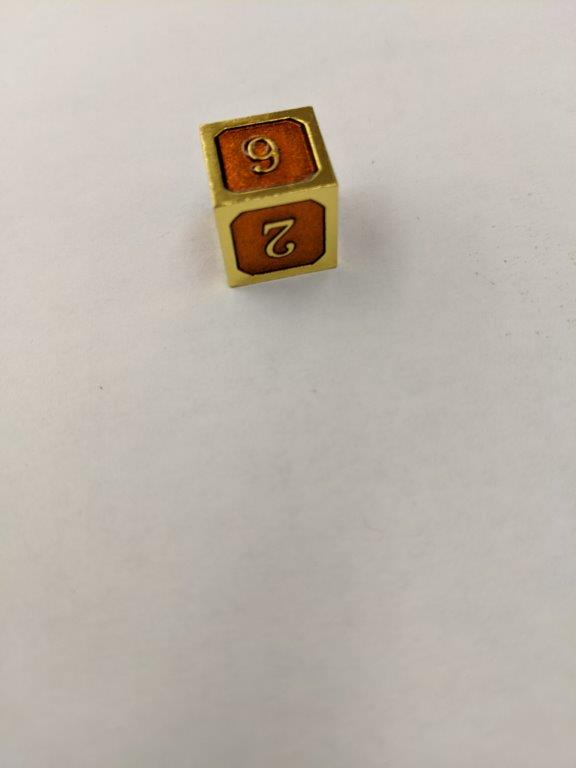d6-6: (200, 101, 340, 289)
